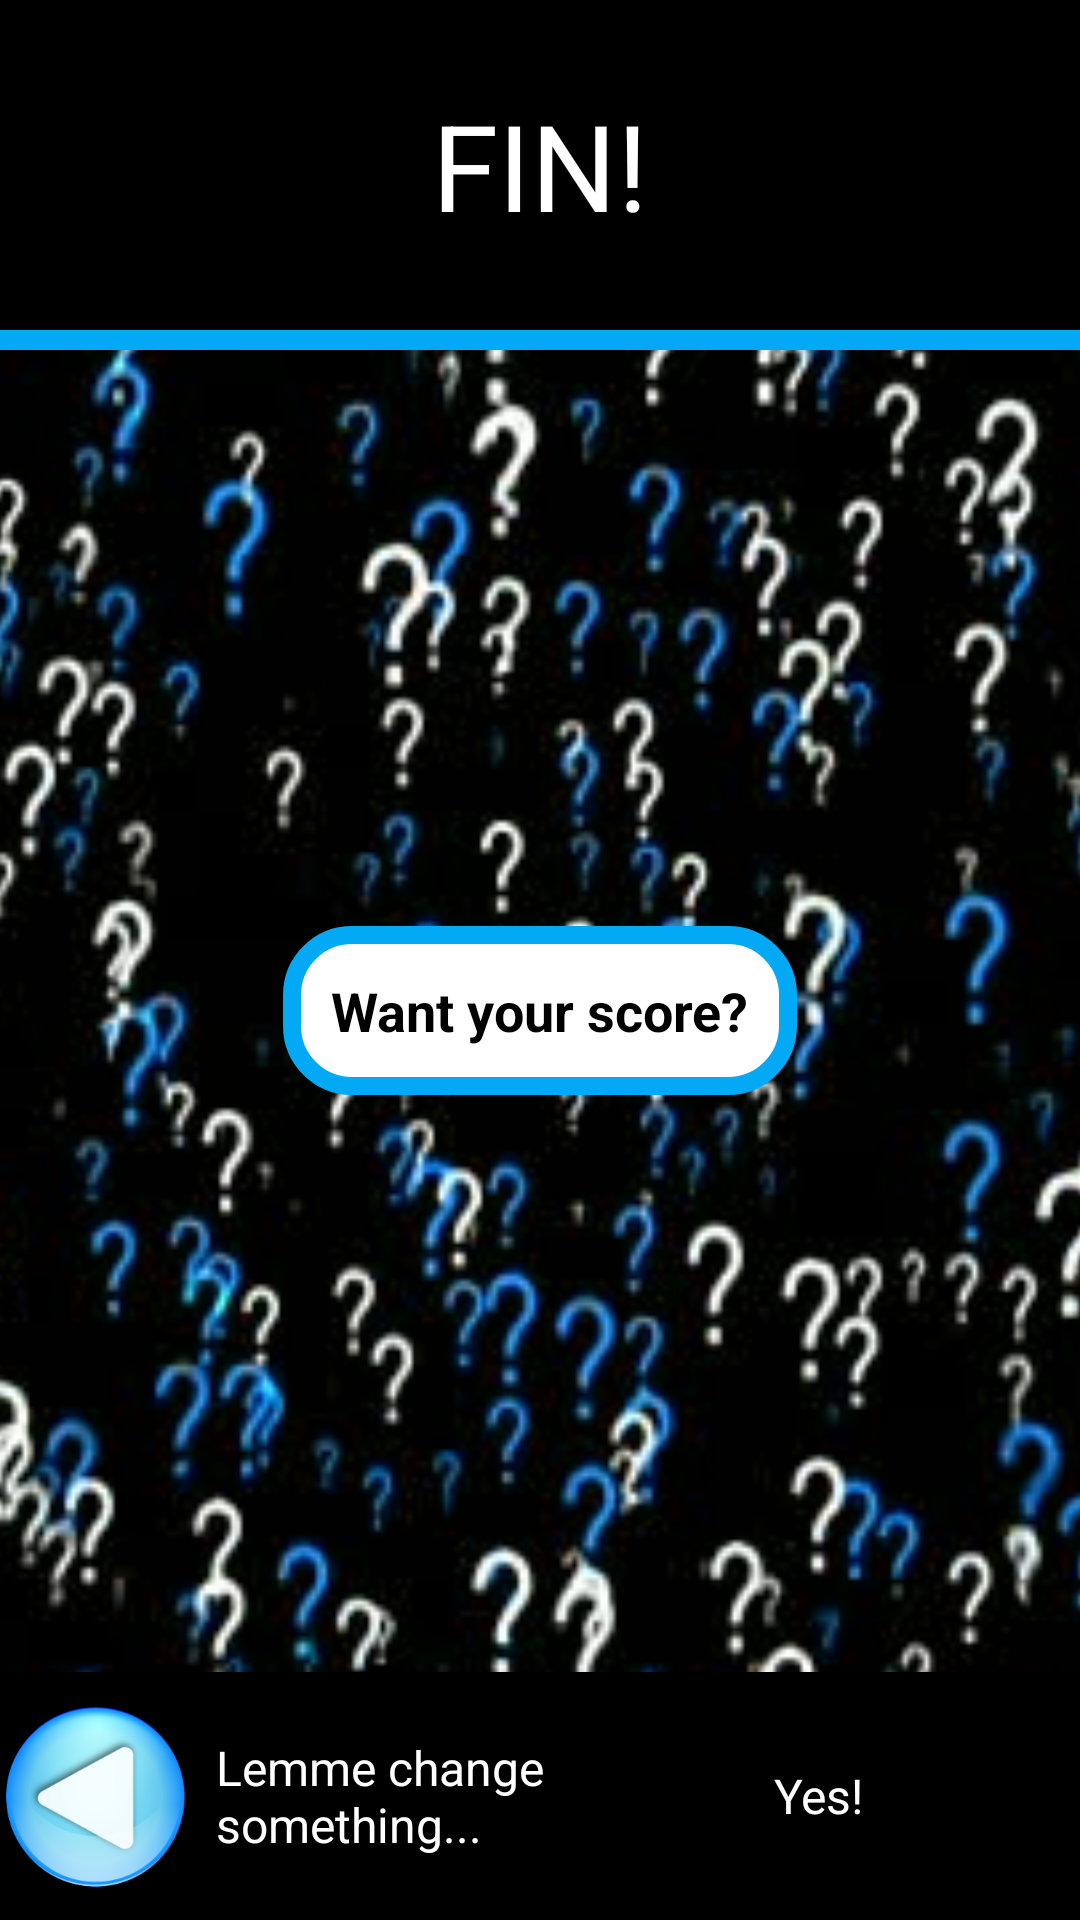

Screen size 1080×1920. Icon name, then its box in pixels as (x1, y1, x2, y2):
back: (6, 1707, 185, 1887)
